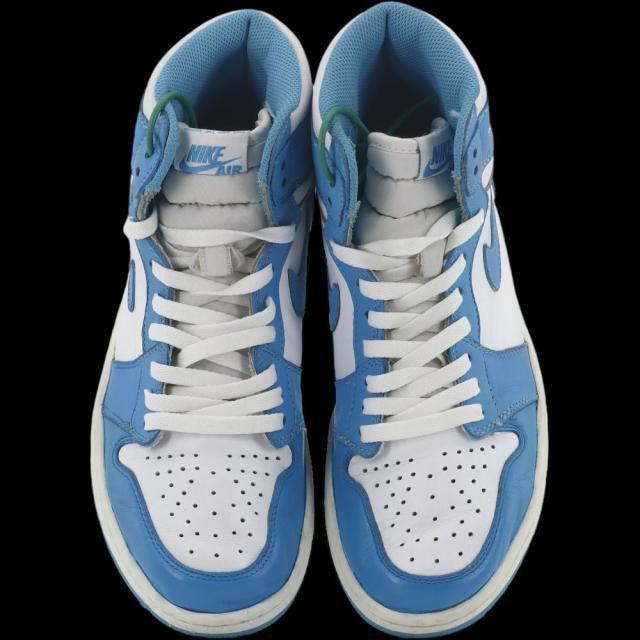nike original jordan 1: (315, 0, 555, 638), (83, 10, 314, 639)
